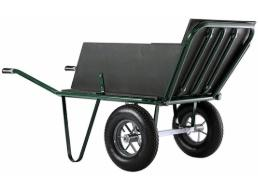BROUETTE: (0, 11, 258, 176)
